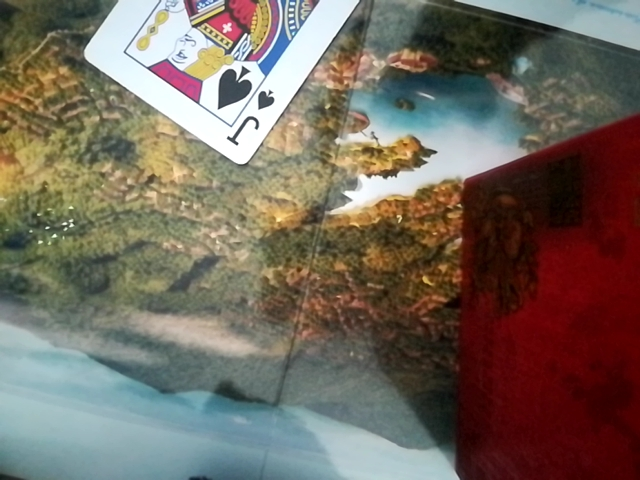ht j: (76, 0, 411, 168)
